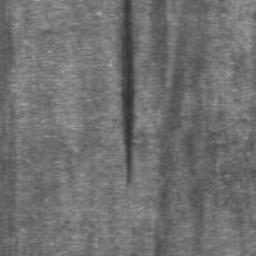Scratches: (120, 0, 137, 187)
